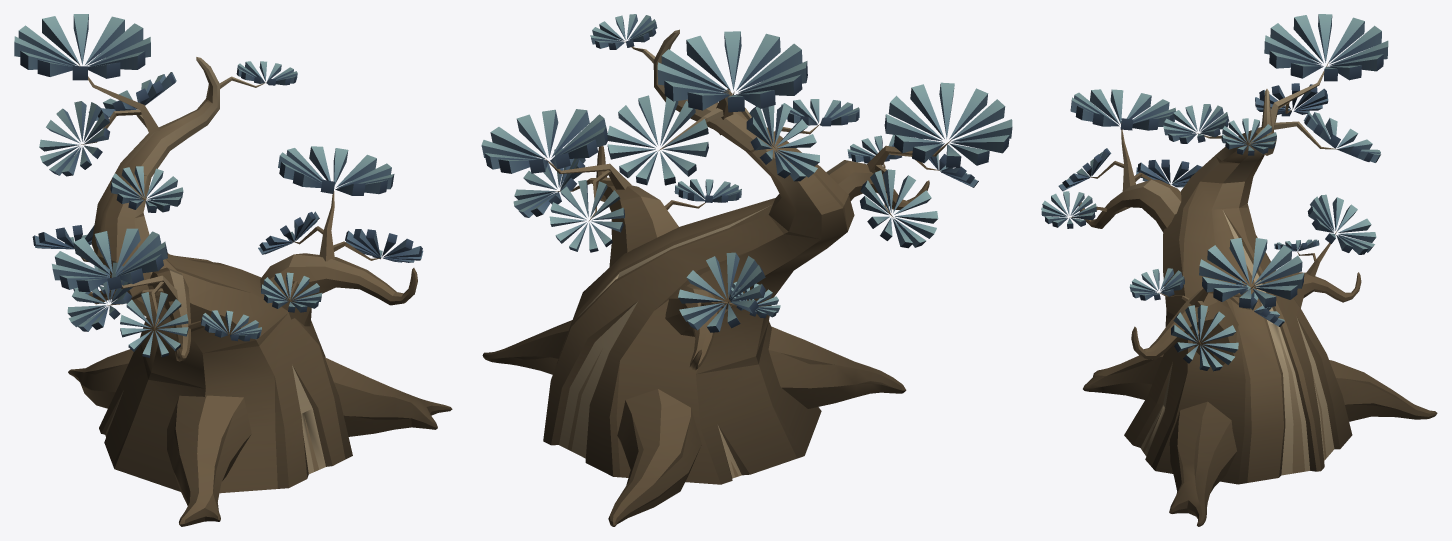
File: ancient_tree_winter_1.001.glb
3 views of the same model, side by side, from view 1: azimuth 30°, elevation 25°; view 2: azimuth 150°, elevation 25°; view 3: azimuth 270°, elevation 25° (orthographic). The views are drawn at different scales.
Visible parts, largest first — view 1: ancient_tree_winter_1.001; view 2: ancient_tree_winter_1.001; view 3: ancient_tree_winter_1.001.
Part boxes in pixels (left/top/right/bottom): ancient_tree_winter_1.001: left=14, top=14, right=452, bottom=526; ancient_tree_winter_1.001: left=481, top=14, right=1012, bottom=526; ancient_tree_winter_1.001: left=1041, top=14, right=1437, bottom=526.
Bounding box in the file's own units: 6.88 × 5.98 × 6.01.
1 material, 1 textured.
